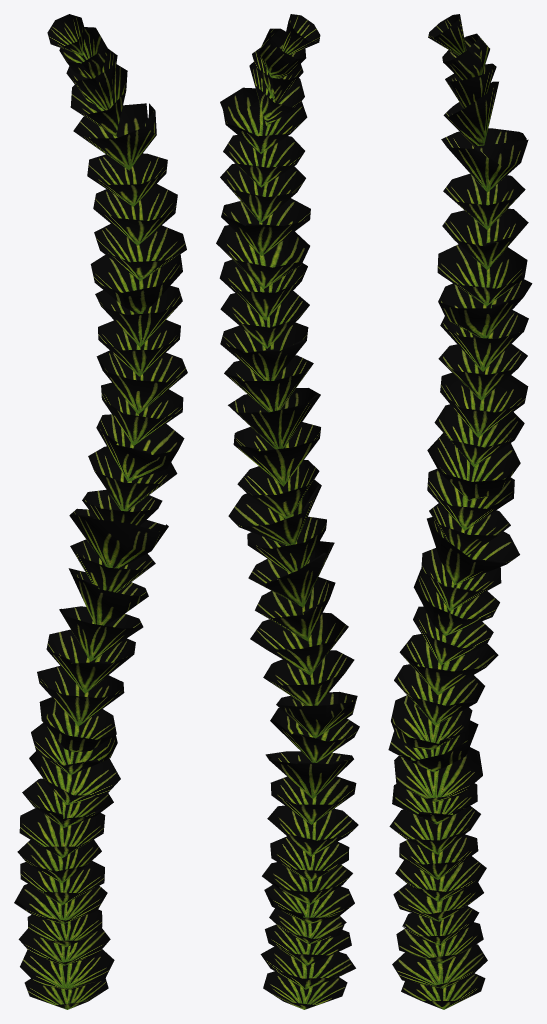
The model's file is AquaPlant_1.fbx.
The picture shows the model from 3 angles, left to right: view 1: azimuth 30°, elevation 25°; view 2: azimuth 150°, elevation 25°; view 3: azimuth 330°, elevation 25°; orthographic projection.
Parts seen in each view (by area): view 1: AquaPlant_1; view 2: AquaPlant_1; view 3: AquaPlant_1.
Boxes of the visible parts, <box> form: AquaPlant_1: <box>14,14,187,1009</box>; AquaPlant_1: <box>216,14,359,1009</box>; AquaPlant_1: <box>388,14,532,1009</box>.
Bounding box in the file's own units: 25.86 × 171 × 21.43.
